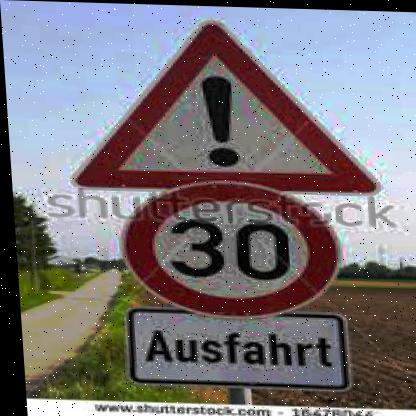Speed Limit -30-: (111, 170, 342, 315)
